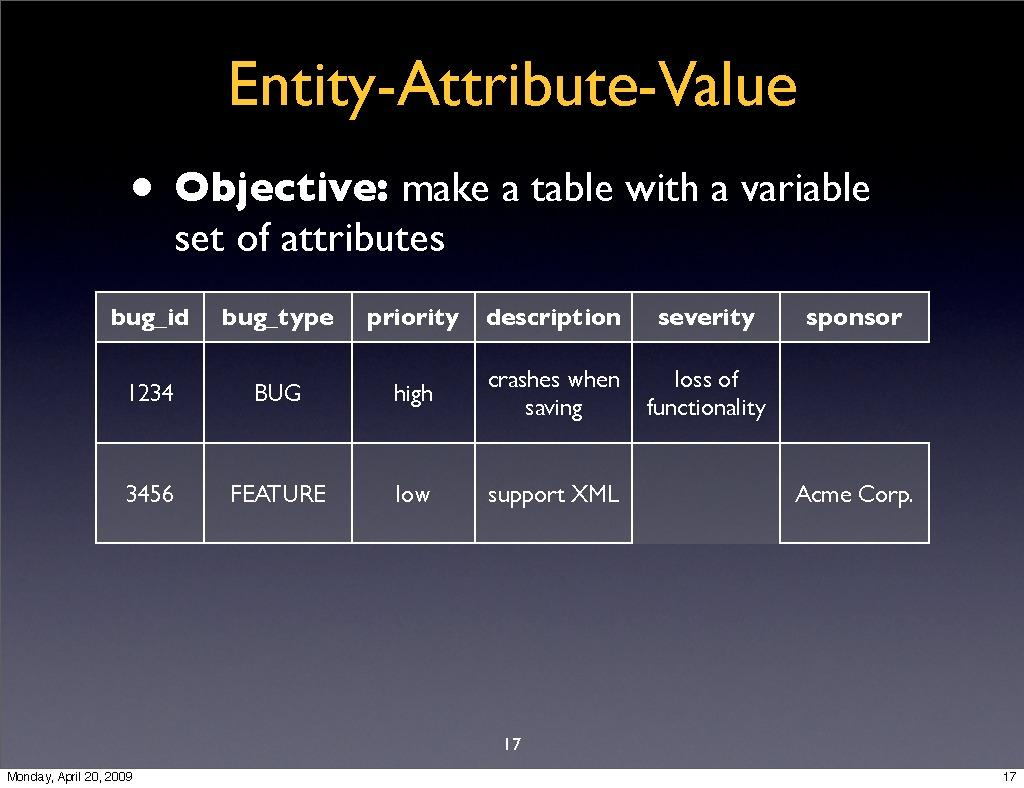paragraph: (79, 160, 964, 614)
title: (217, 51, 824, 132)
